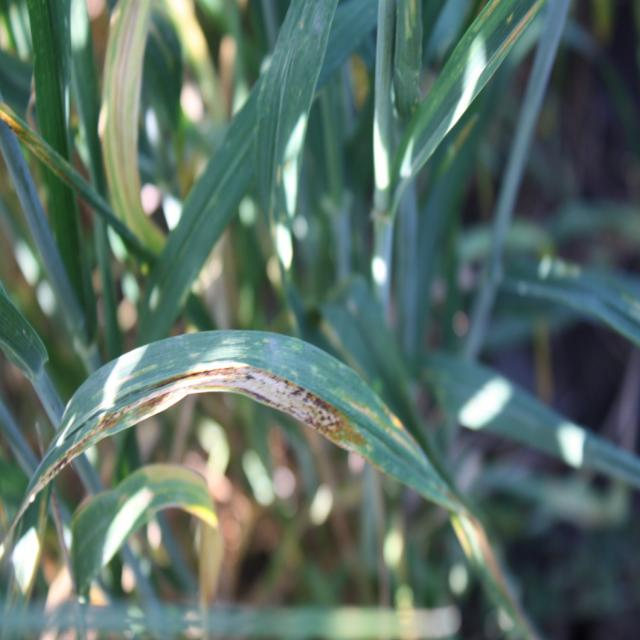wheat-septoria: (20, 330, 471, 524)
